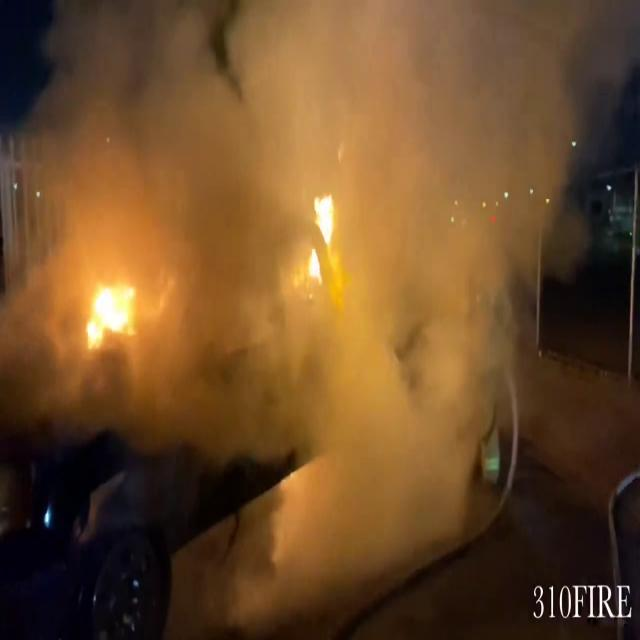Fire: (80, 269, 146, 354), (297, 186, 347, 296)
Smoke: (4, 0, 620, 583)
